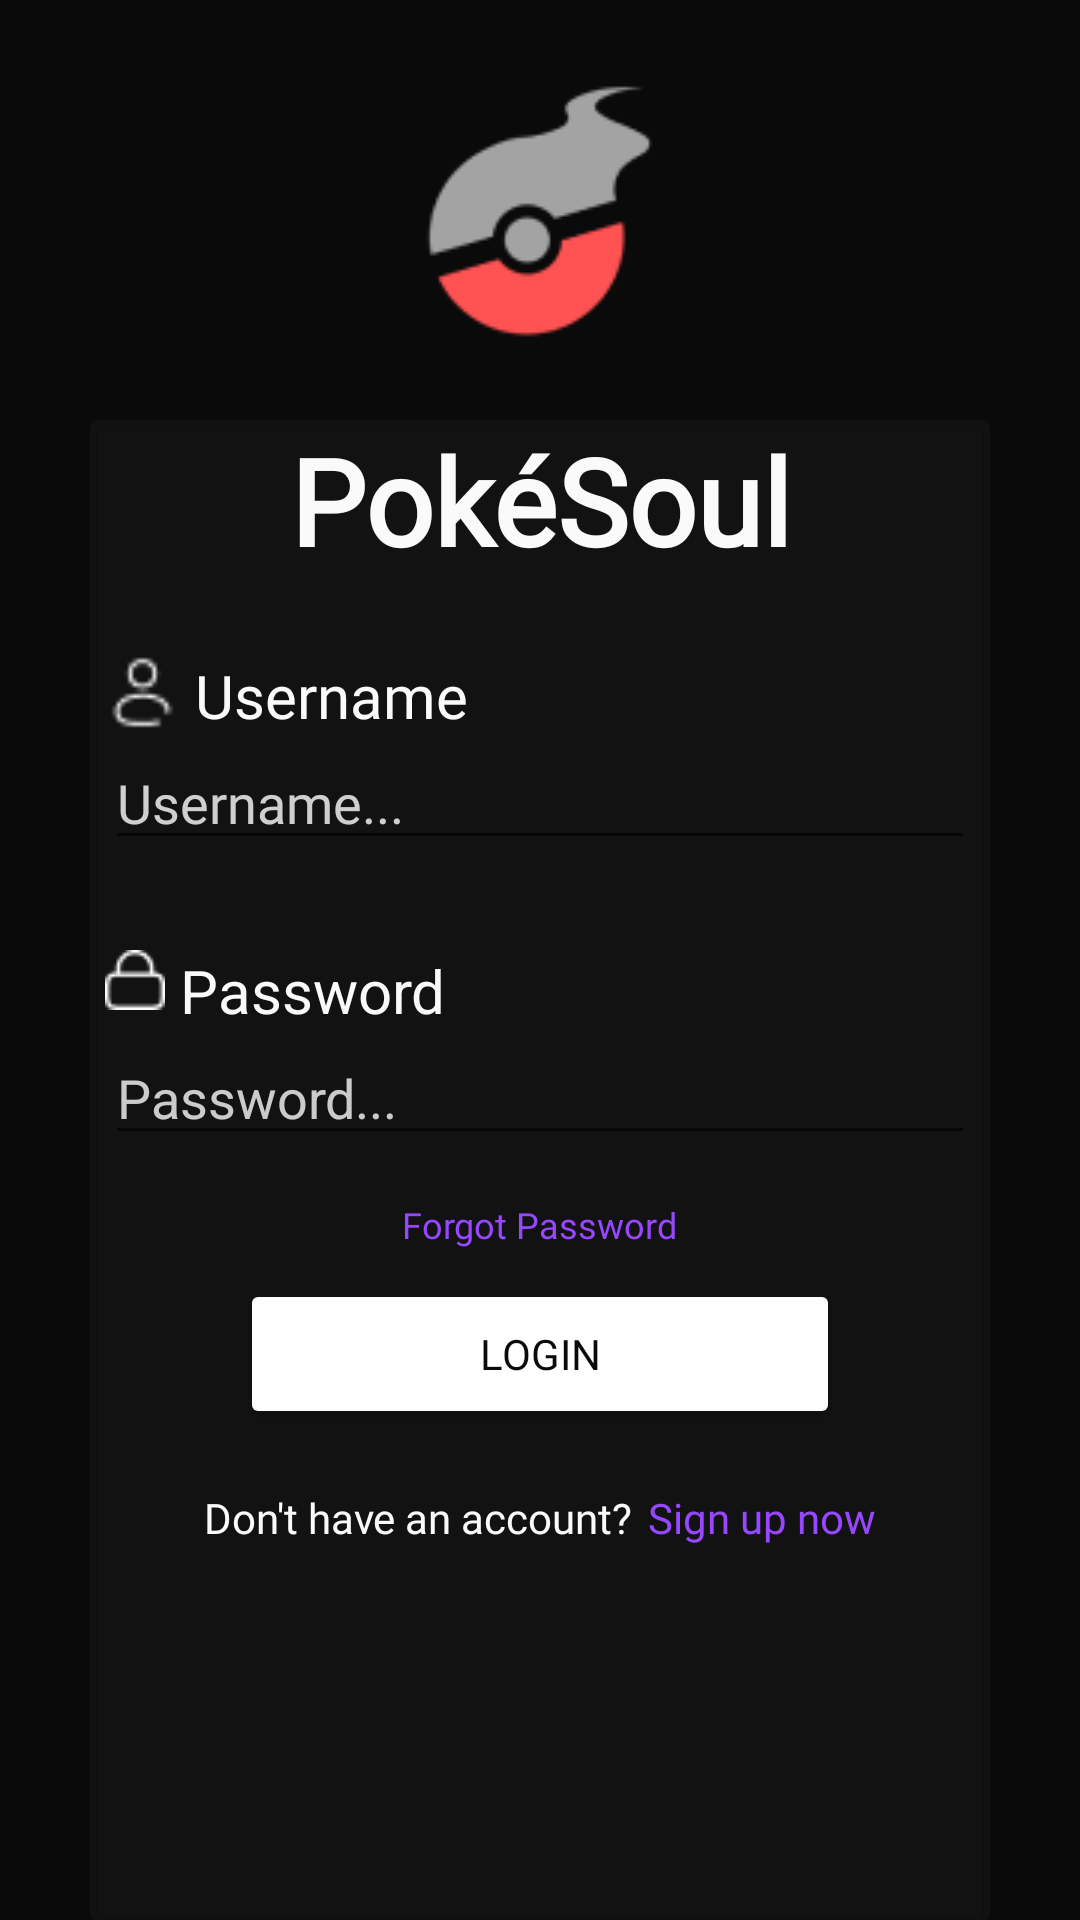

Screen size 1080×1920. Icon name, then its box in pixels as region(x1, y1, x2, y2):
lock: region(105, 950, 165, 1010)
